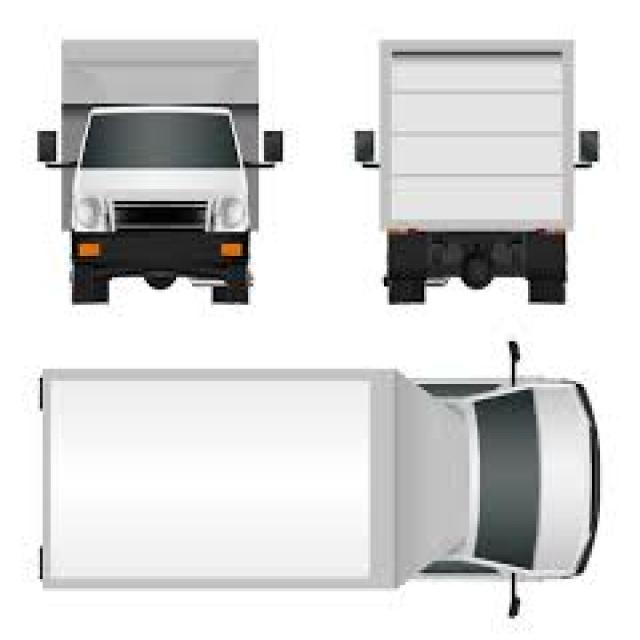truck: (36, 361, 602, 589), (375, 36, 576, 308), (58, 37, 261, 306)
